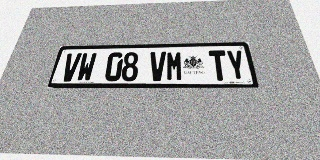0: (104, 52, 124, 81)
8: (121, 52, 139, 81)
M: (166, 51, 183, 81)
T: (208, 50, 229, 81)
V: (60, 53, 82, 82), (149, 51, 166, 81)
W: (76, 53, 97, 81)
Y: (225, 50, 248, 81)
